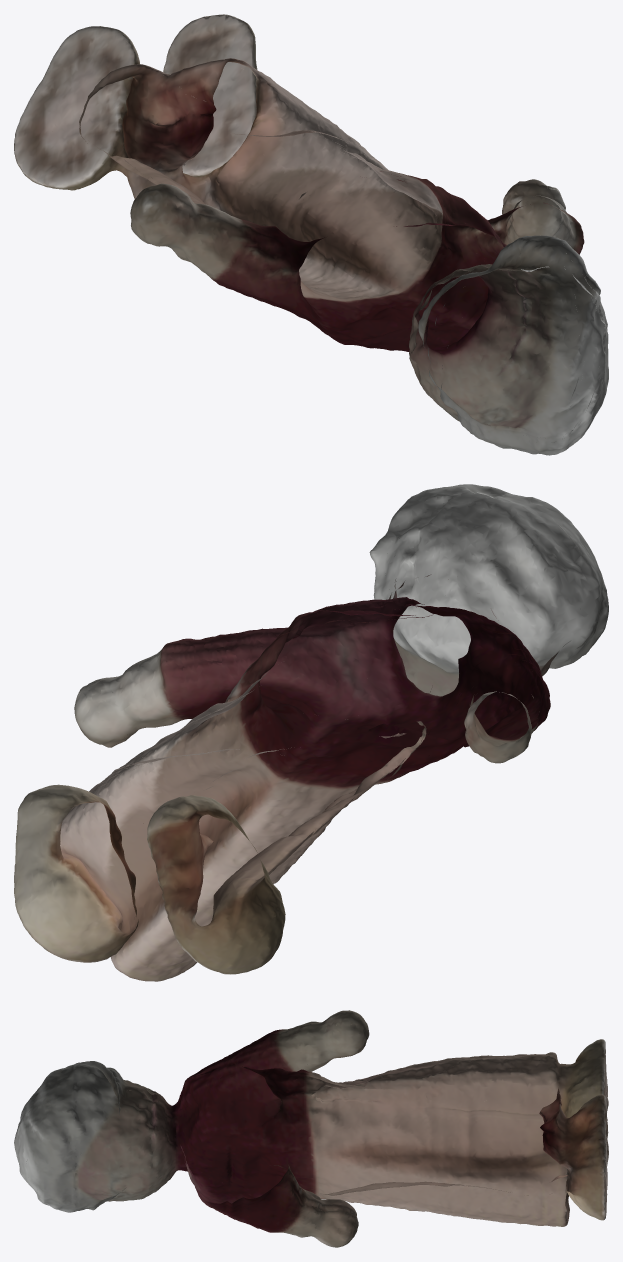
File: grandmother.glb
The picture shows the model from 3 angles, top to bottom: view 1: azimuth 30°, elevation 25°; view 2: azimuth 150°, elevation 25°; view 3: azimuth 270°, elevation 25°; orthographic projection. The views are drawn at different scales.
Bounding box in the file's own units: 0.603 × 0.3006 × 1.
